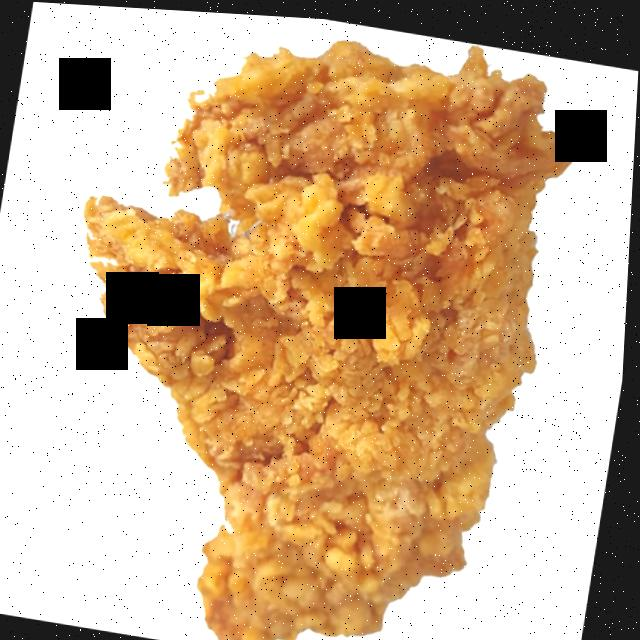Frango: (123, 49, 501, 616)
